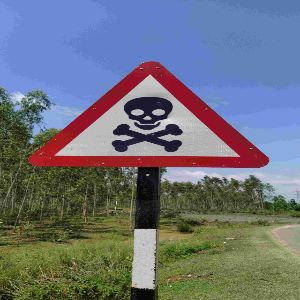Accident prone area: (21, 53, 284, 185)
